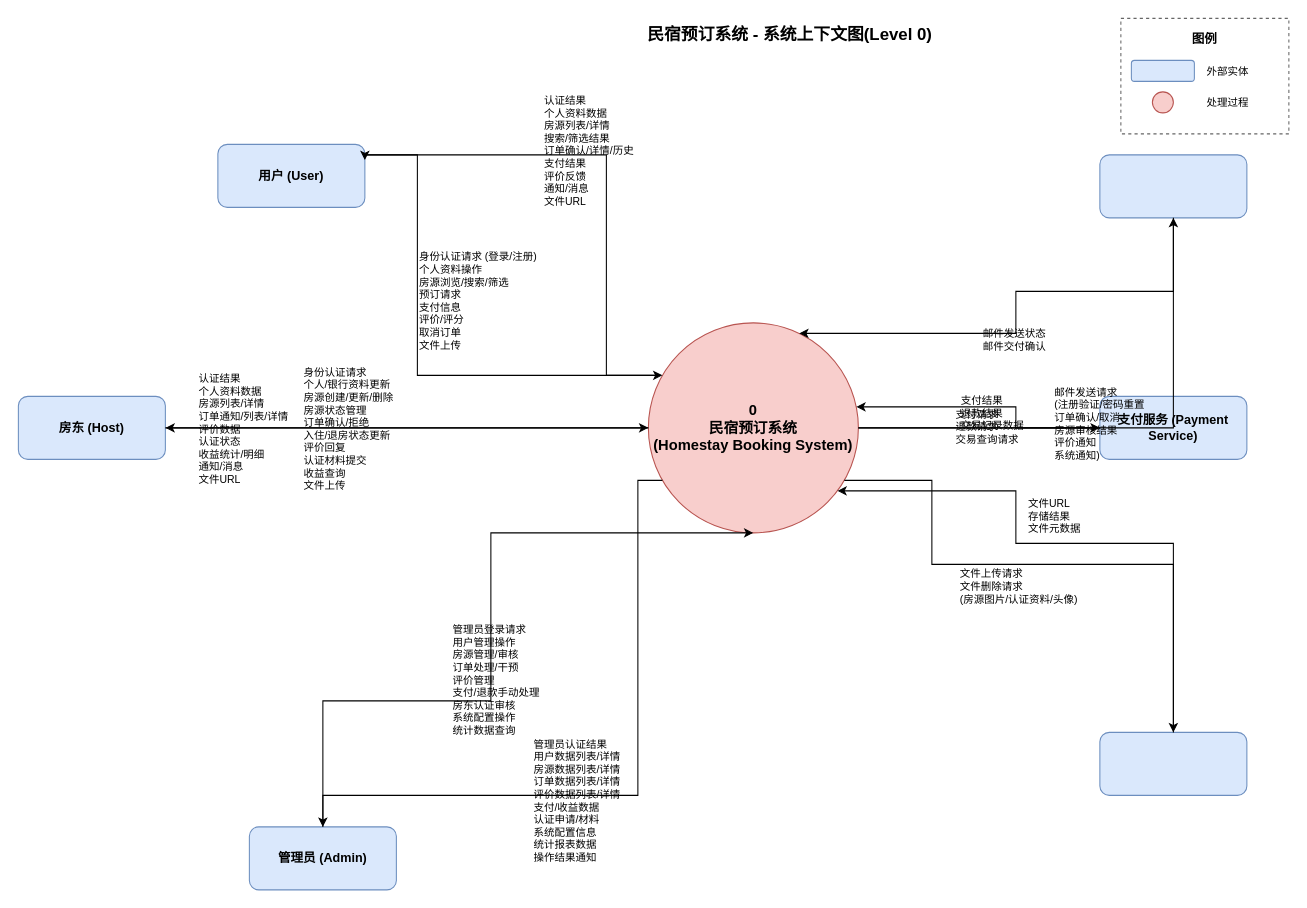
Some shapes in this 1307 by 908 pixel diagram are drawn without their labels. The shapes that lost their labels are listed below. From the top down, each one's centre as x and y in pixels, then its label:
point (1173, 186): 邮件服务 (Email Service)
point (1173, 763): 文件存储服务 (File Storage)
